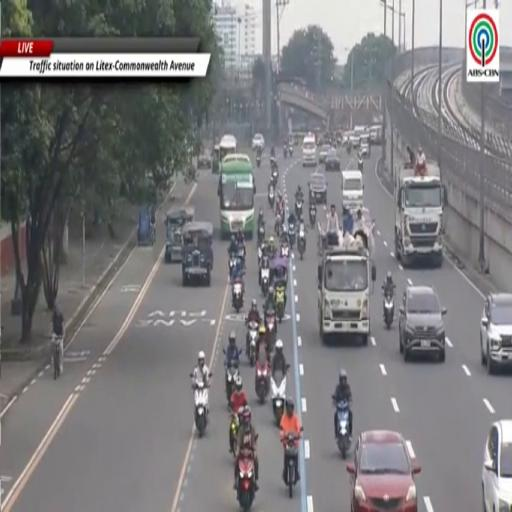bus: (218, 159, 255, 238), (219, 135, 237, 163)
car: (347, 430, 420, 511), (399, 285, 447, 362), (482, 420, 511, 511), (480, 293, 511, 374), (309, 172, 327, 204), (325, 149, 340, 170), (198, 150, 212, 169), (360, 135, 371, 158), (319, 144, 331, 163), (252, 134, 264, 151), (349, 133, 360, 148)
jeepney: (182, 222, 213, 286), (165, 206, 194, 263), (212, 144, 220, 173)
motorcycle: (282, 432, 299, 498), (237, 457, 255, 511), (335, 400, 350, 458), (194, 380, 208, 437), (271, 373, 286, 425), (255, 357, 269, 404), (225, 361, 239, 403), (246, 322, 258, 366), (274, 285, 286, 323), (265, 311, 276, 350), (231, 280, 244, 312), (230, 411, 239, 456), (384, 294, 394, 328), (260, 268, 269, 296), (297, 230, 305, 260), (238, 244, 246, 267), (289, 224, 296, 249), (229, 254, 236, 279), (309, 204, 316, 228), (295, 200, 303, 218), (258, 224, 265, 244), (268, 189, 275, 208), (280, 244, 289, 258), (271, 168, 278, 186), (258, 243, 263, 267), (275, 216, 281, 236), (358, 157, 363, 172), (347, 141, 351, 154), (283, 146, 287, 158), (256, 155, 260, 167), (289, 146, 293, 157)
truck: (318, 233, 376, 345), (394, 162, 447, 266)
